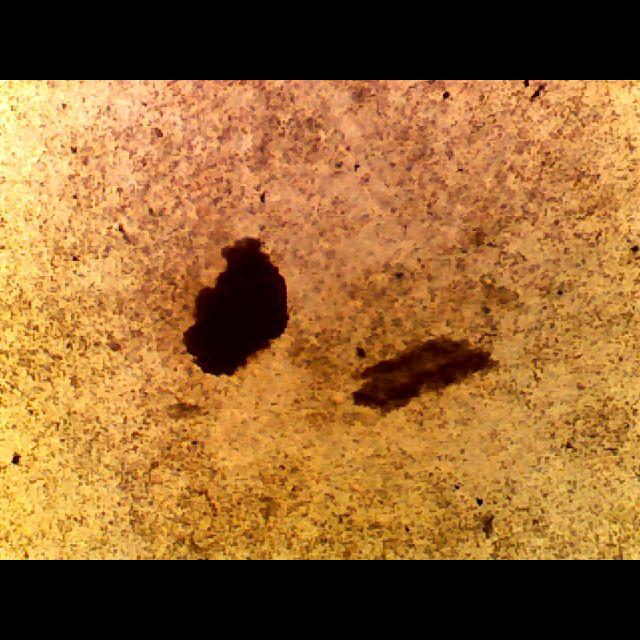Fragment: (173, 234, 299, 380), (351, 326, 502, 432)
